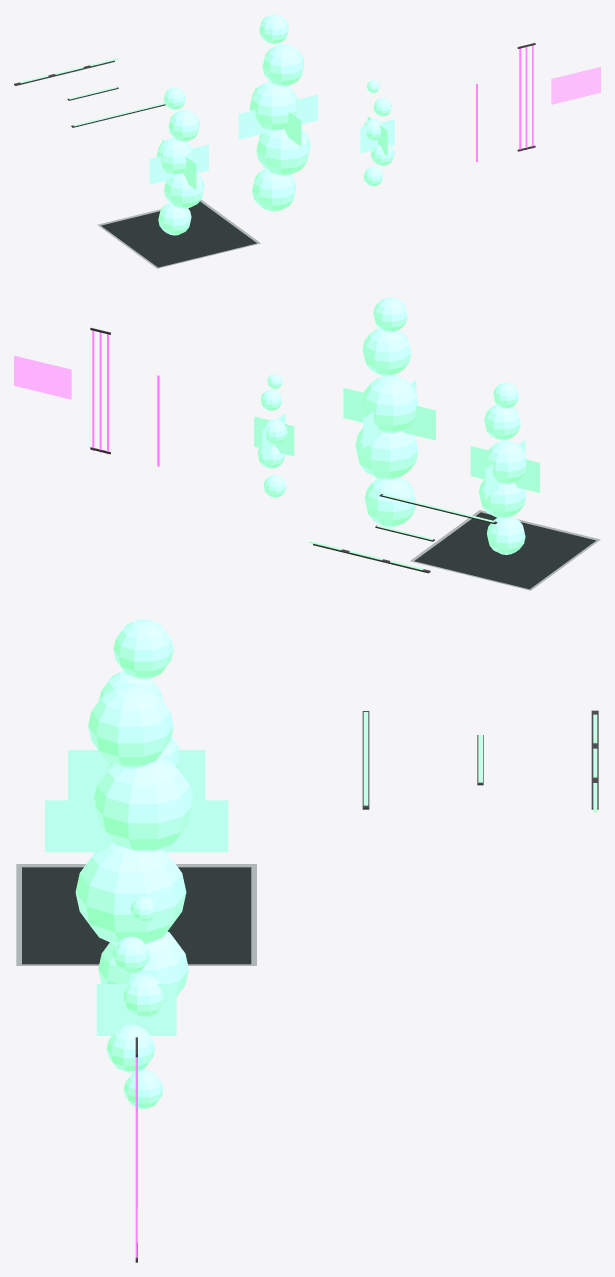
The model's file is dockkit_mood_all.glb.
3 views of the same model, one above another, from view 1: azimuth 30°, elevation 25°; view 2: azimuth 150°, elevation 25°; view 3: azimuth 270°, elevation 25° (orthographic). The views are drawn at different scales.
Parts seen in each view (by area): view 1: DK_Mood_FogColumn_Green_B, DK_Mood_ShallowWaterMirror_4m, DK_Mood_FogColumn_Green_A, DK_Mood_WetAsphaltPlane_4m, DK_Mood_FogColumn_Green_Slim, DK_Mood_ExtractGate_EnergyPlane_2x4, DK_Mood_ExtractGate_TripleStrip_4m, DK_Mood_HangarStrip_Segmented_4m; view 2: DK_Mood_FogColumn_Green_B, DK_Mood_ShallowWaterMirror_4m, DK_Mood_FogColumn_Green_A, DK_Mood_WetAsphaltPlane_4m, DK_Mood_FogColumn_Green_Slim, DK_Mood_ExtractGate_EnergyPlane_2x4, DK_Mood_ExtractGate_TripleStrip_4m, DK_Mood_HangarStrip_Segmented_4m, DK_Mood_HangarStrip_4m; view 3: DK_Mood_FogColumn_Green_B, DK_Mood_ShallowWaterMirror_4m, DK_Mood_WetAsphaltPlane_4m, DK_Mood_FogColumn_Green_Slim, DK_Mood_FogColumn_Green_A.
Boxes of the visible parts, bbox=[...] form: DK_Mood_FogColumn_Green_B: bbox=[238, 14, 317, 211]; DK_Mood_ShallowWaterMirror_4m: bbox=[98, 200, 260, 268]; DK_Mood_FogColumn_Green_A: bbox=[149, 87, 208, 235]; DK_Mood_WetAsphaltPlane_4m: bbox=[101, 201, 256, 267]; DK_Mood_FogColumn_Green_Slim: bbox=[360, 80, 394, 186]; DK_Mood_ExtractGate_EnergyPlane_2x4: bbox=[551, 67, 600, 104]; DK_Mood_ExtractGate_TripleStrip_4m: bbox=[517, 43, 535, 151]; DK_Mood_HangarStrip_Segmented_4m: bbox=[14, 58, 118, 85]; DK_Mood_FogColumn_Green_B: bbox=[343, 297, 435, 527]; DK_Mood_ShallowWaterMirror_4m: bbox=[410, 510, 600, 590]; DK_Mood_FogColumn_Green_A: bbox=[470, 382, 539, 554]; DK_Mood_WetAsphaltPlane_4m: bbox=[414, 512, 595, 589]; DK_Mood_FogColumn_Green_Slim: bbox=[254, 374, 294, 497]; DK_Mood_ExtractGate_EnergyPlane_2x4: bbox=[14, 355, 71, 399]; DK_Mood_ExtractGate_TripleStrip_4m: bbox=[90, 328, 110, 454]; DK_Mood_HangarStrip_Segmented_4m: bbox=[308, 541, 430, 573]; DK_Mood_HangarStrip_4m: bbox=[379, 494, 497, 524]; DK_Mood_FogColumn_Green_B: bbox=[45, 619, 228, 996]; DK_Mood_ShallowWaterMirror_4m: bbox=[16, 864, 256, 965]; DK_Mood_WetAsphaltPlane_4m: bbox=[22, 867, 251, 964]; DK_Mood_FogColumn_Green_Slim: bbox=[96, 896, 176, 1108]; DK_Mood_FogColumn_Green_A: bbox=[68, 671, 205, 800].
Size of the model in its own units: 19.1 by 7.48 by 10.16.
